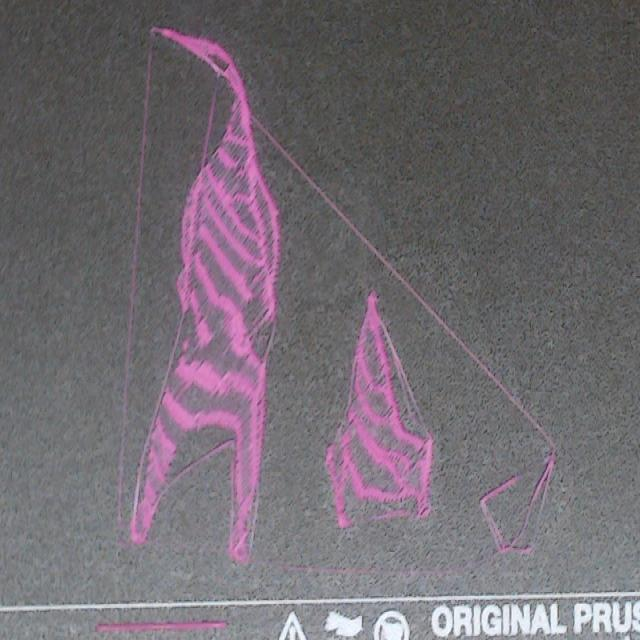mistake: (131, 31, 280, 561), (326, 295, 432, 527), (481, 455, 554, 552)
